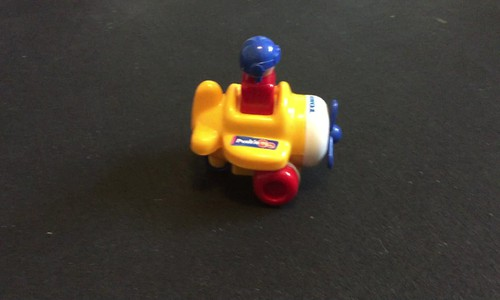toy: (184, 38, 347, 211)
